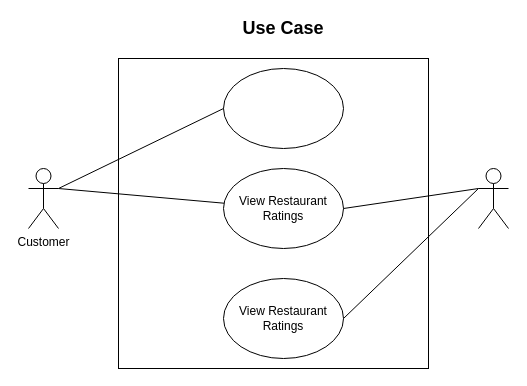
Some shapes in this 527 by 386 pixel diagram are drawn without their labels. The centre of each missing label's shape, as x and y in pixels:
"Admin" belongs at (493,198).
"Insert Rating" belongs at (283,108).
